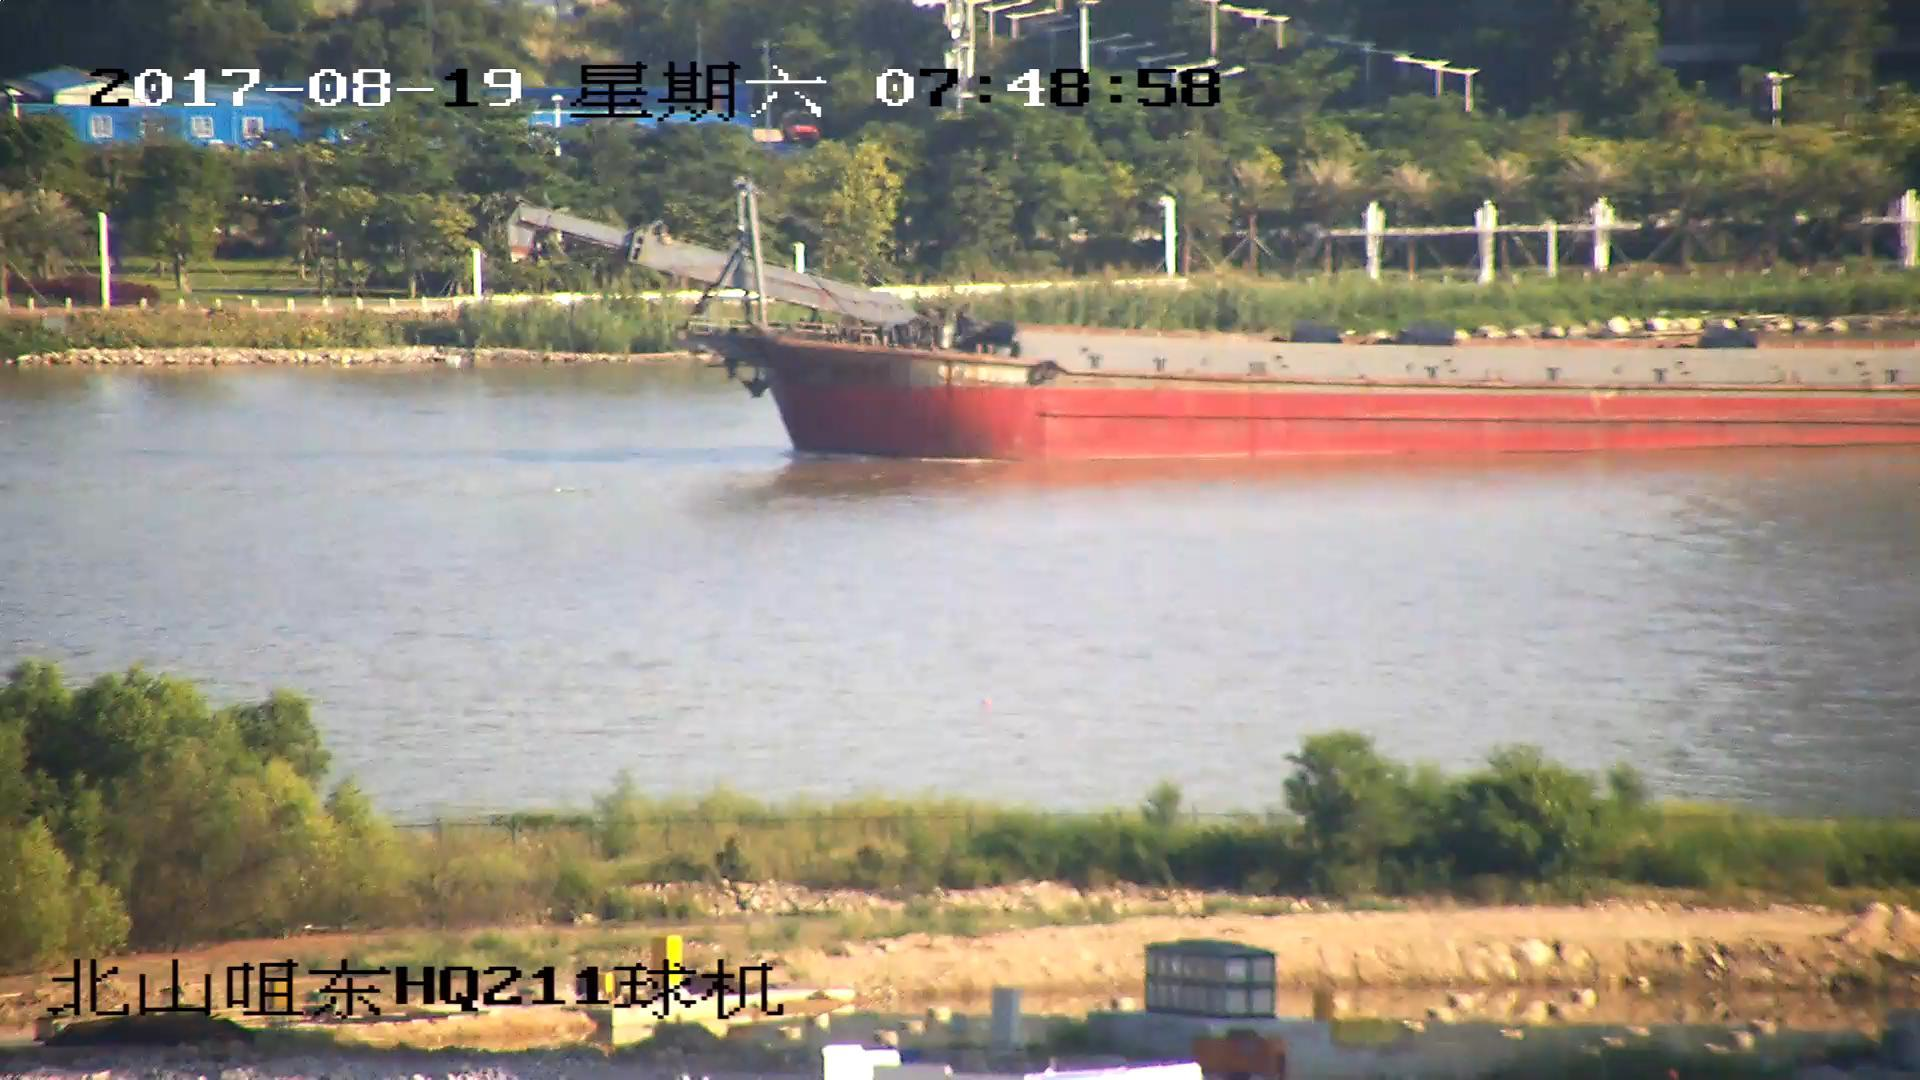Ship: (506, 186, 1920, 458)
